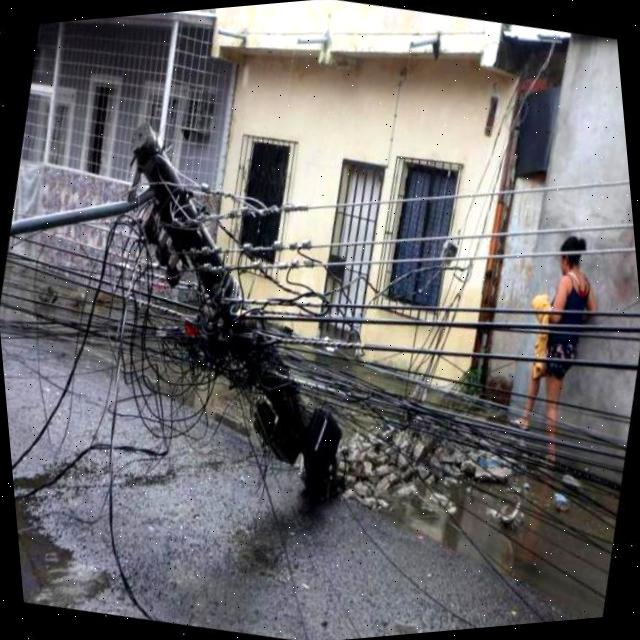Broken Pole: (10, 120, 343, 488)
